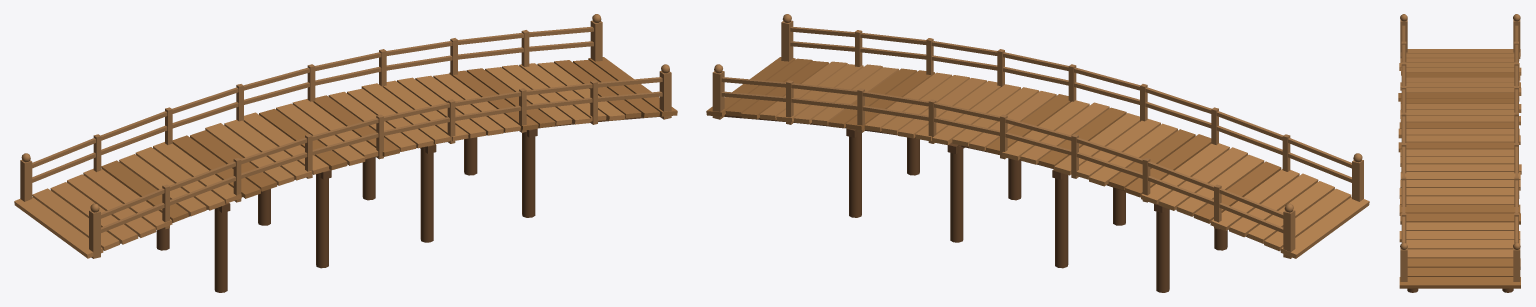
File: bridge.glb
The picture shows the model from 3 angles, left to right: view 1: azimuth 30°, elevation 25°; view 2: azimuth 150°, elevation 25°; view 3: azimuth 270°, elevation 25°; orthographic projection. The views are drawn at different scales.
Visible parts, largest first — view 1: Bridge; view 2: Bridge; view 3: Bridge.
Boxes of the visible parts, x1,y1,x2,y2 form: Bridge: (14, 14, 677, 292); Bridge: (706, 14, 1369, 292); Bridge: (1398, 14, 1521, 292).
Size of the model in its own units: 17.05 by 3.88 by 3.76.
